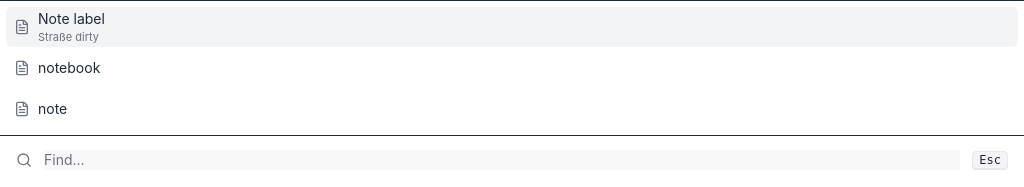
Test case: OrgNavigationPicker › searches display labels and markers while preserving single-path ranks
Type "note" into the dropdown at (502, 160), box left=44, top=150, right=960, bottom=170
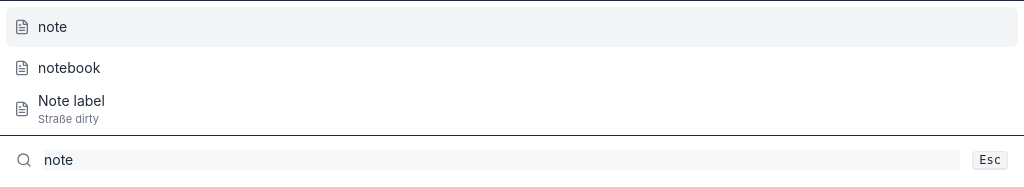
Now the options read "note", "notebook", "Note labelStraße dirty", in this order, box left=6, top=7, right=1018, bottom=47; left=6, top=48, right=1018, bottom=88; left=6, top=89, right=1018, bottom=129
Replace the text in the dropdown with "dirty STRASSE label" at (502, 160), box left=44, top=150, right=960, bottom=170
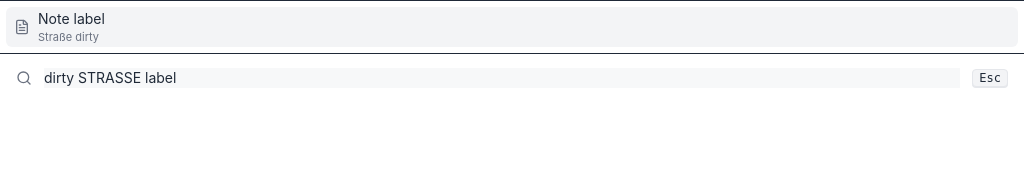
Expected: the option "Note label Straße dirty" is shown, left=6, top=7, right=1018, bottom=47
Now the number of options is 1, box left=6, top=7, right=1018, bottom=47
